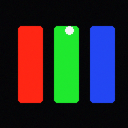0 point: (65, 26, 73, 34)
